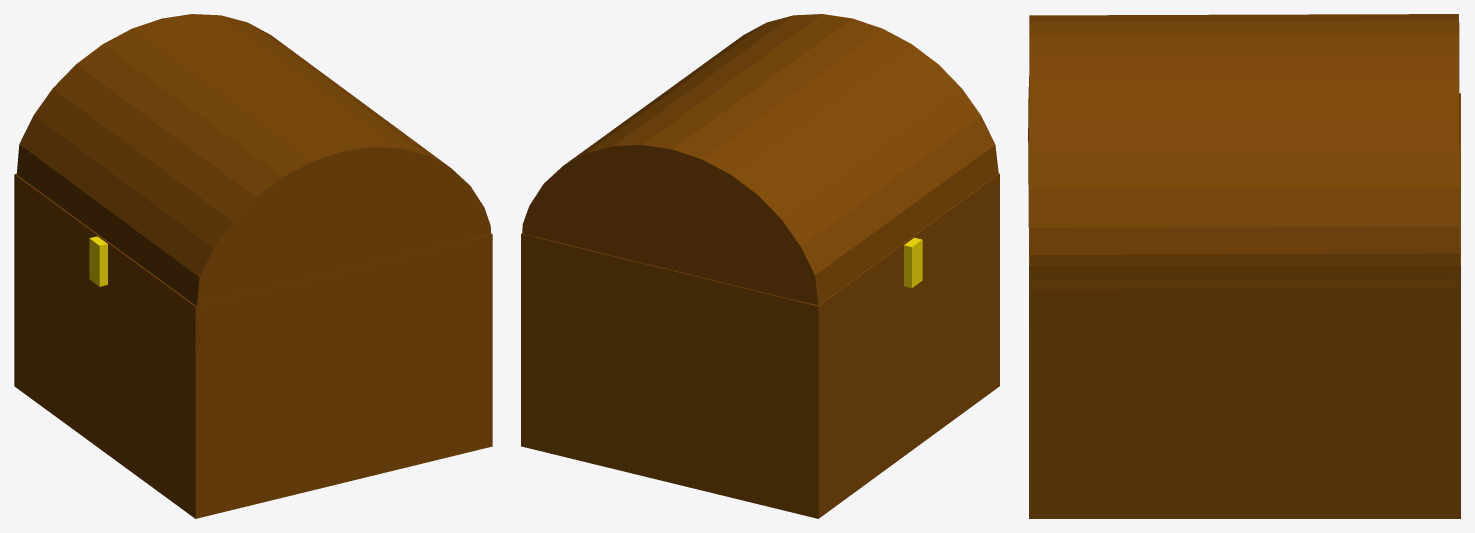
The model's file is Chest.fbx.
3 renders of one model, left to right at view 1: azimuth 30°, elevation 25°; view 2: azimuth 150°, elevation 25°; view 3: azimuth 270°, elevation 25°, orthographic. The views are drawn at different scales.
Visible parts, largest first — view 1: Cube, Cube.001; view 2: Cube, Cube.001; view 3: Cube.
Part boxes in pixels (x1,y1,x2,y2): Cube: [14, 14, 492, 518]; Cube.001: [89, 236, 107, 286]; Cube: [521, 14, 999, 518]; Cube.001: [904, 237, 922, 288]; Cube: [1028, 14, 1460, 518].
Size of the model in its own units: 196 by 203 by 200.
